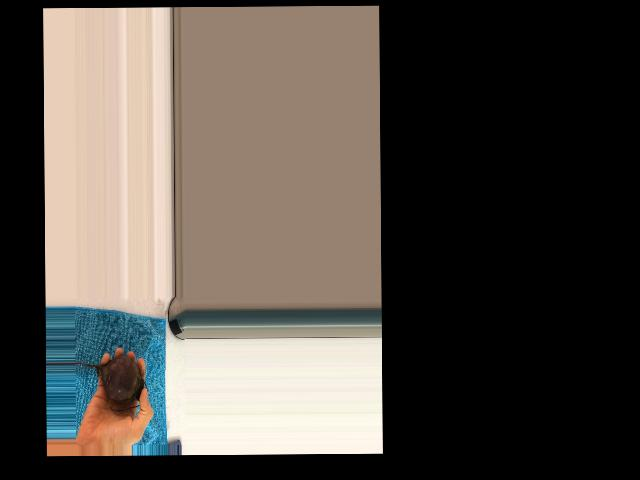beet: (74, 354, 147, 411)
